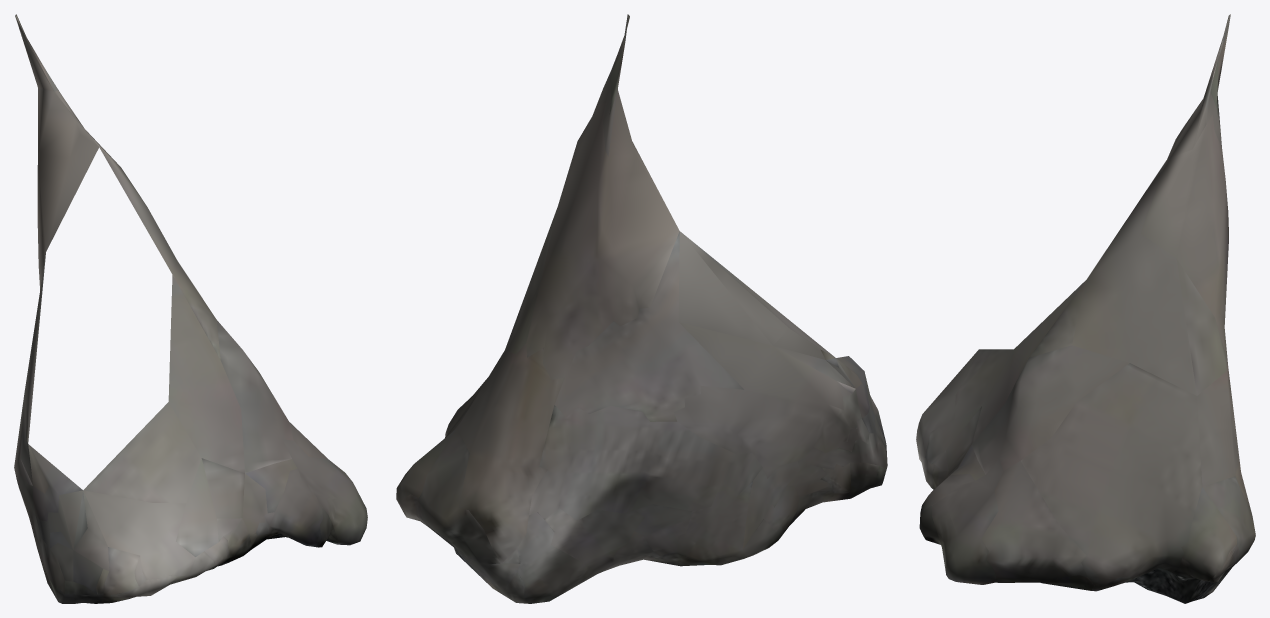
File: hall.glb
3 views of the same model, side by side, from view 1: azimuth 30°, elevation 25°; view 2: azimuth 150°, elevation 25°; view 3: azimuth 270°, elevation 25° (orthographic). The views are drawn at different scales.
Bounding box in the file's own units: 0.418 × 0.6912 × 0.4011.
1 material, 1 textured.
